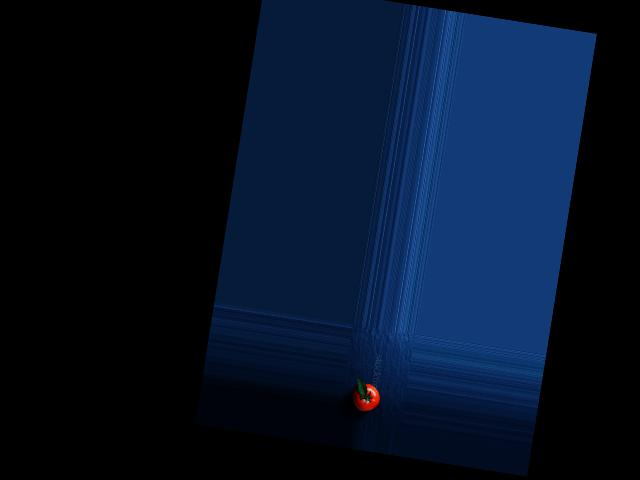tomato: (350, 381, 381, 413)
